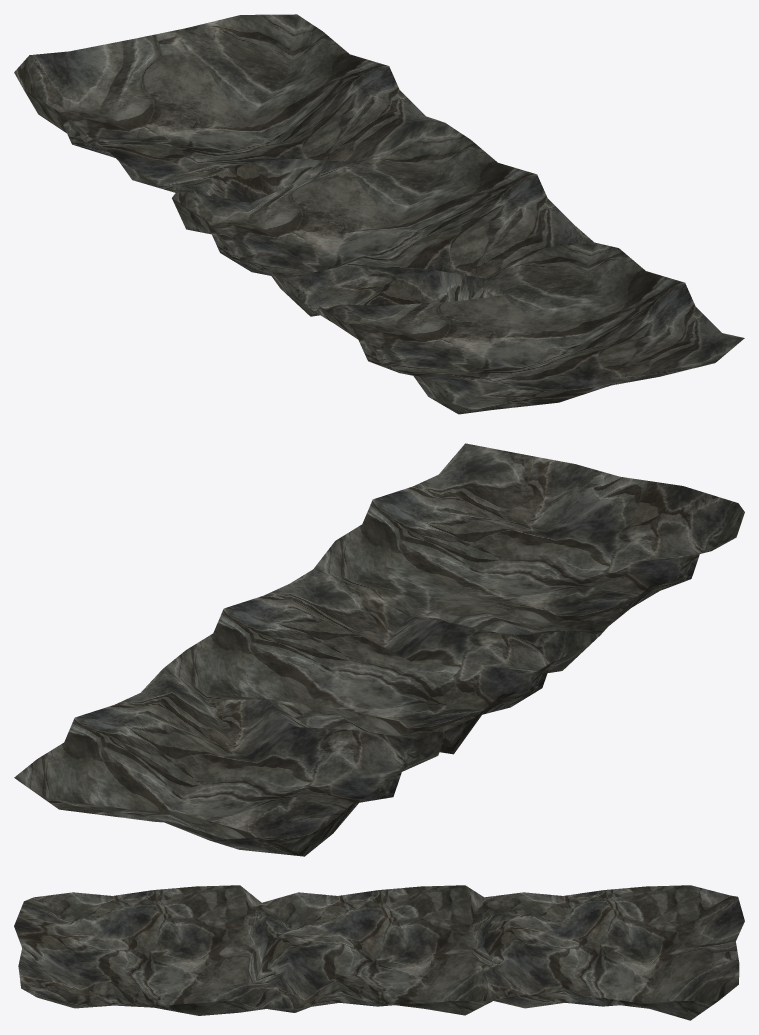
File: Wall12x4.fbx
3 views of the same model, one above another, from view 1: azimuth 30°, elevation 25°; view 2: azimuth 150°, elevation 25°; view 3: azimuth 270°, elevation 25° (orthographic). The views are drawn at different scales.
Visible parts, largest first — view 1: polySurface8; view 2: polySurface8; view 3: polySurface8.
Part boxes in pixels (box(x1,y1,x2,y2)): polySurface8: box(14, 14, 744, 414); polySurface8: box(14, 443, 744, 856); polySurface8: box(14, 885, 744, 1020).
Bounding box in the file's own units: 4.94 × 0.9629 × 12.98.
